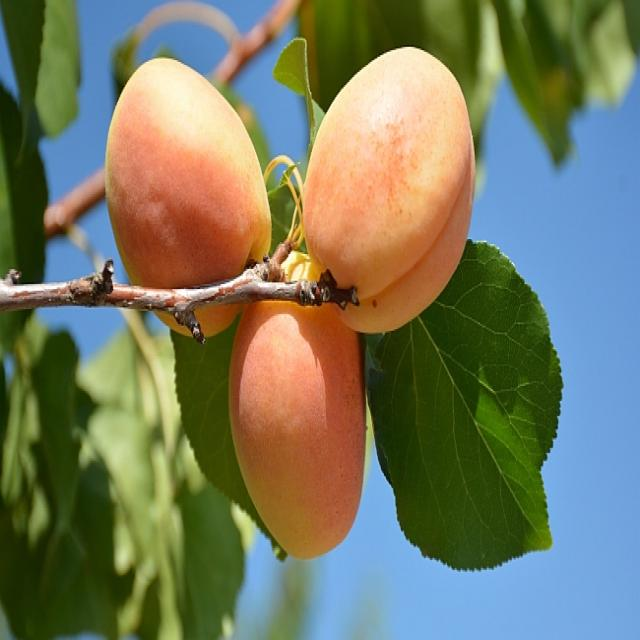kayisi: (303, 47, 479, 330), (105, 59, 272, 337), (227, 284, 366, 564)
kayisi yapragi: (362, 237, 561, 570), (3, 324, 188, 640), (168, 330, 300, 569), (496, 0, 640, 152), (0, 0, 86, 177)
